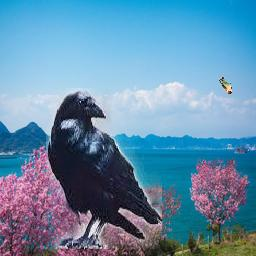Crow: (46, 89, 162, 250)
Swallow: (218, 76, 232, 94)
